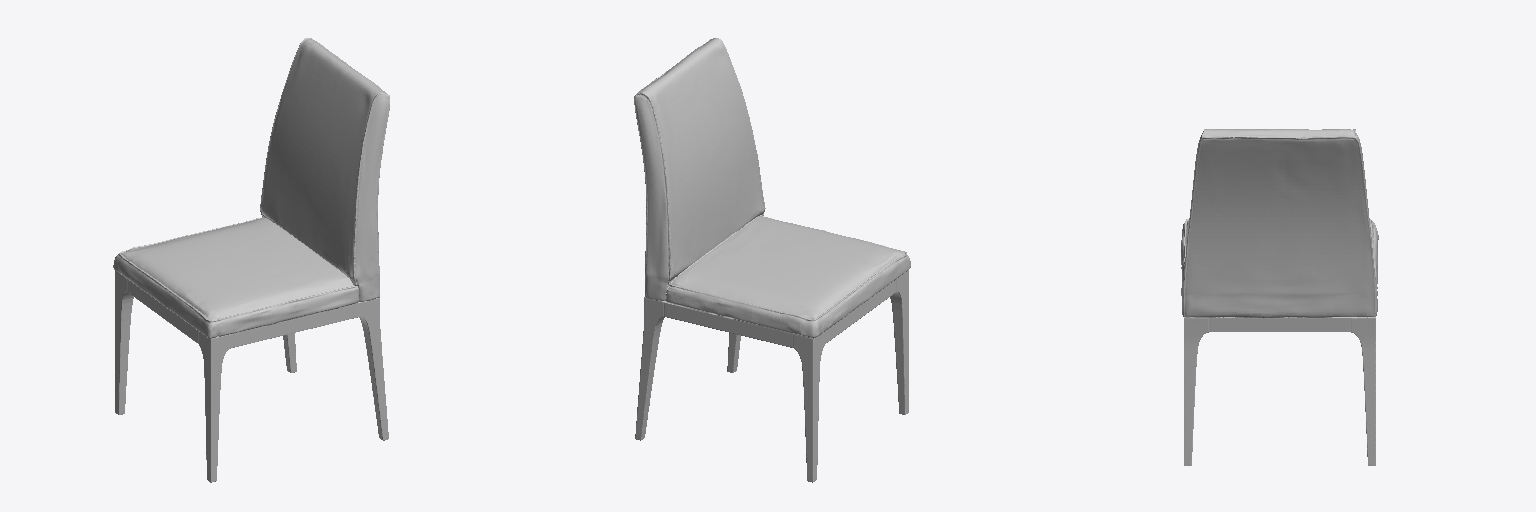
The model's file is CHAIR_HIGHT_POLY.obj.
3 views of the same model, side by side, from view 1: azimuth 30°, elevation 25°; view 2: azimuth 150°, elevation 25°; view 3: azimuth 270°, elevation 25° (orthographic).
Parts seen in each view (by area): view 1: Group33294; view 2: Group33294; view 3: Group33294.
Boxes of the visible parts, box(x1,y1,x2,y2) form: Group33294: box(113, 38, 389, 482); Group33294: box(634, 38, 910, 482); Group33294: box(1181, 129, 1378, 465).
Size of the model in its own units: 557 by 933 by 494.